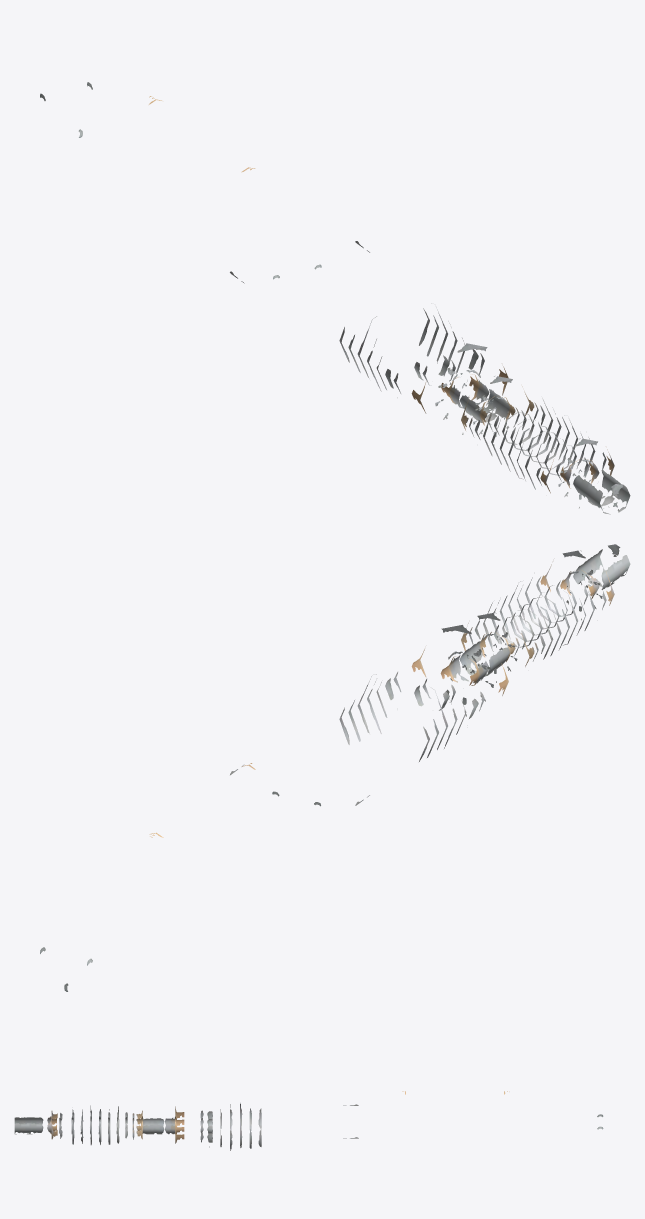
File: wp_rifle_lightning_cannon_l0.fbx
3 views of the same model, one above another, from view 1: azimuth 30°, elevation 25°; view 2: azimuth 150°, elevation 25°; view 3: azimuth 270°, elevation 25° (orthographic). The views are drawn at different scales.
Parts seen in each view (by area): view 1: mesh_node; view 2: mesh_node; view 3: mesh_node.
Boxes of the visible parts, x1,y1,x2,y2 form: mesh_node: (40,82,630,514); mesh_node: (40,544,630,991); mesh_node: (14,1091,603,1150).
Size of the model in its own units: 0.1146 by 0.1816 by 0.914.
1 material, 1 textured.
